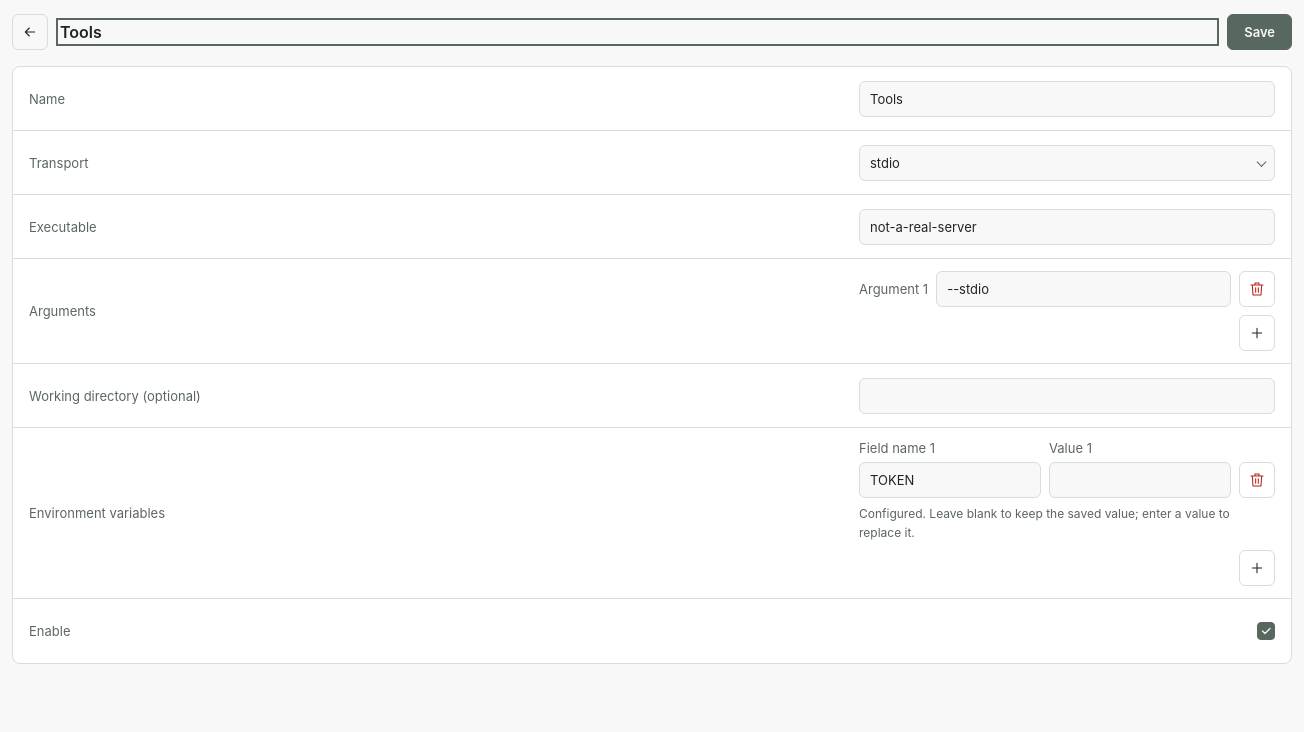
it: removal actions remove only their own row
Click the button named "Remove argument 1".
click(1257, 289)  # box [1239,271,1275,307]
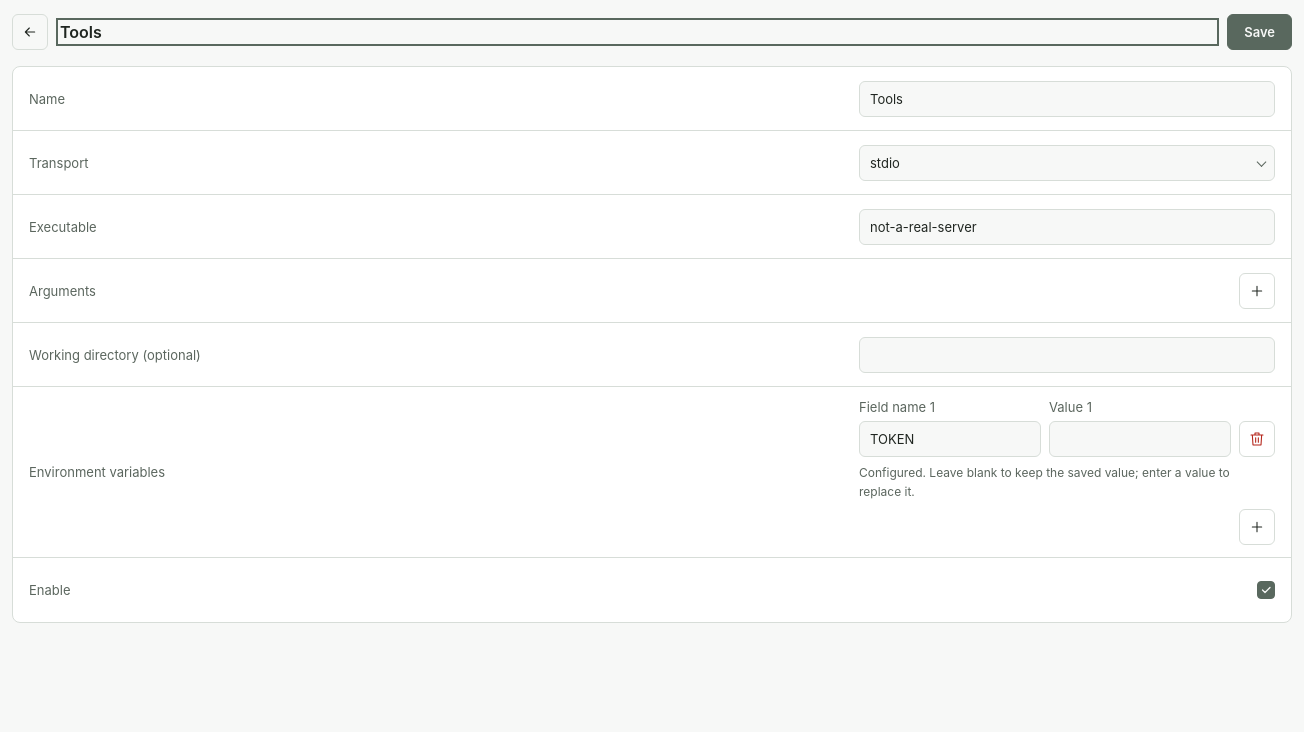
Expected: the field labelled "Field name 1" is shown, [859,421,1041,457]
Expected: the label labelled "Argument 1" is gone
Click the button named "Remove field 1".
click(1257, 439)  # box [1239,421,1275,457]
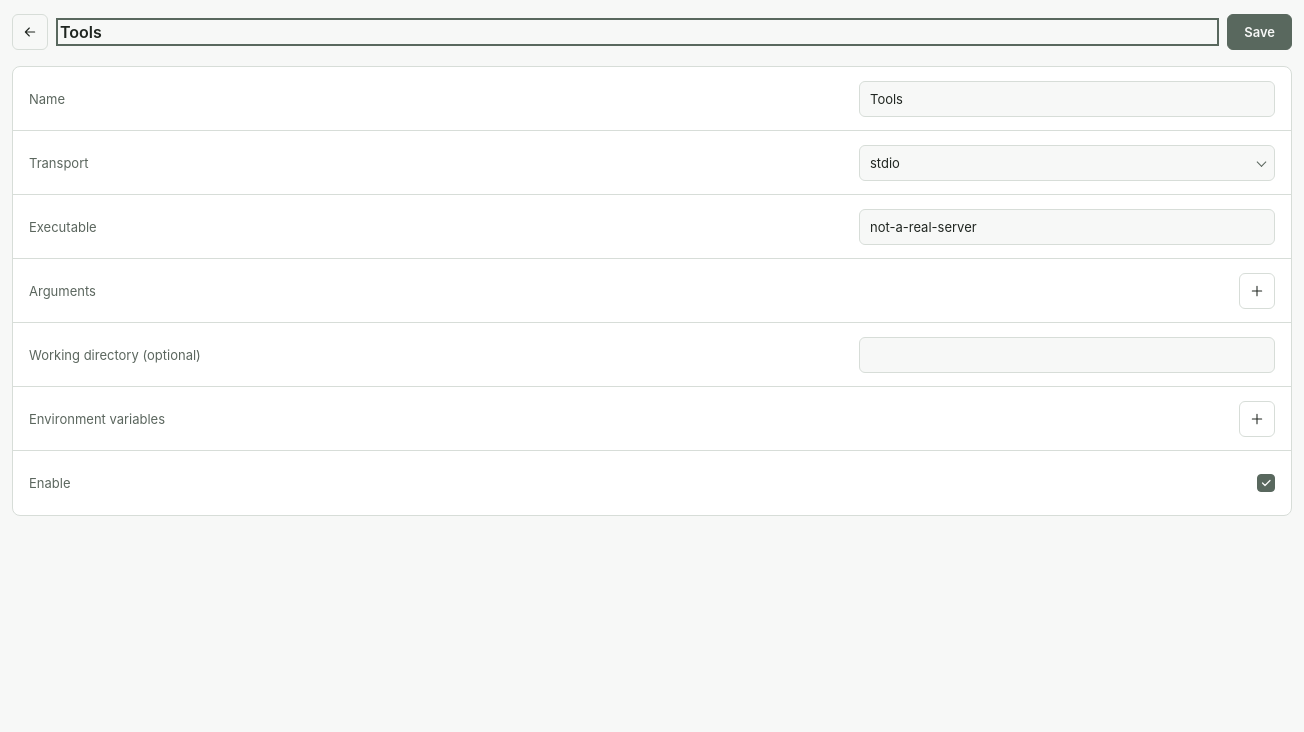
Expected: the label labelled "Field name 1" is gone
